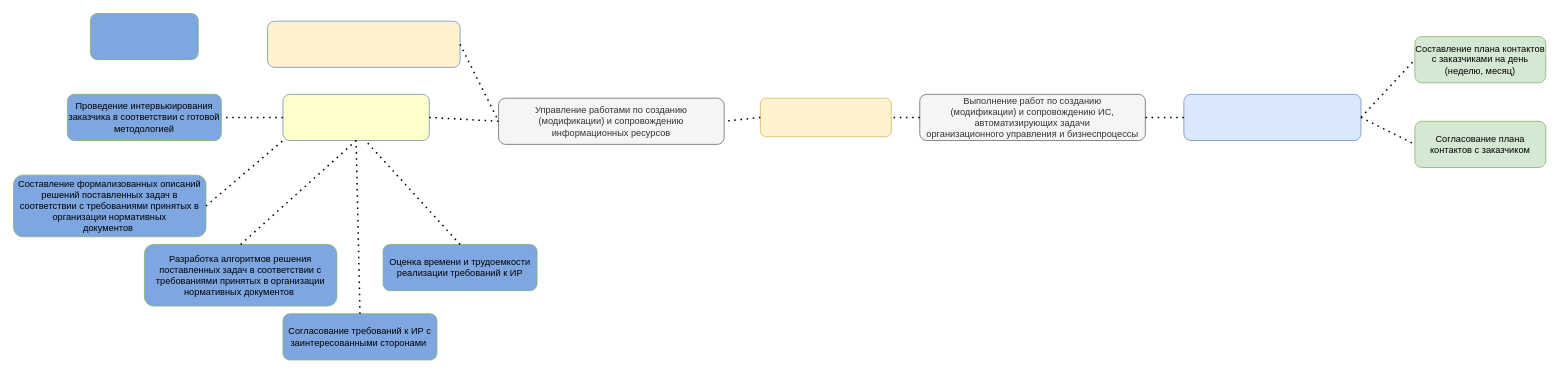
The diagram is 1559 pixels wide and 373 high, and some of its shapes have lost their labels. Each missing label, with the centre of its shape:
"Анализ и формализация требований к ИР" belongs at pixel 355 117.
"Планирование коммуникаций с заказчиком в рамках типовых регламентов организации" belongs at pixel 1272 117.
"Разработка и согласование технических спецификаций на ИР" belongs at pixel 144 36.
"Разработка технических спецификаций на ИР" belongs at pixel 363 43.
"Разработчик Web и мультимедийных приложений" belongs at pixel 825 117.
